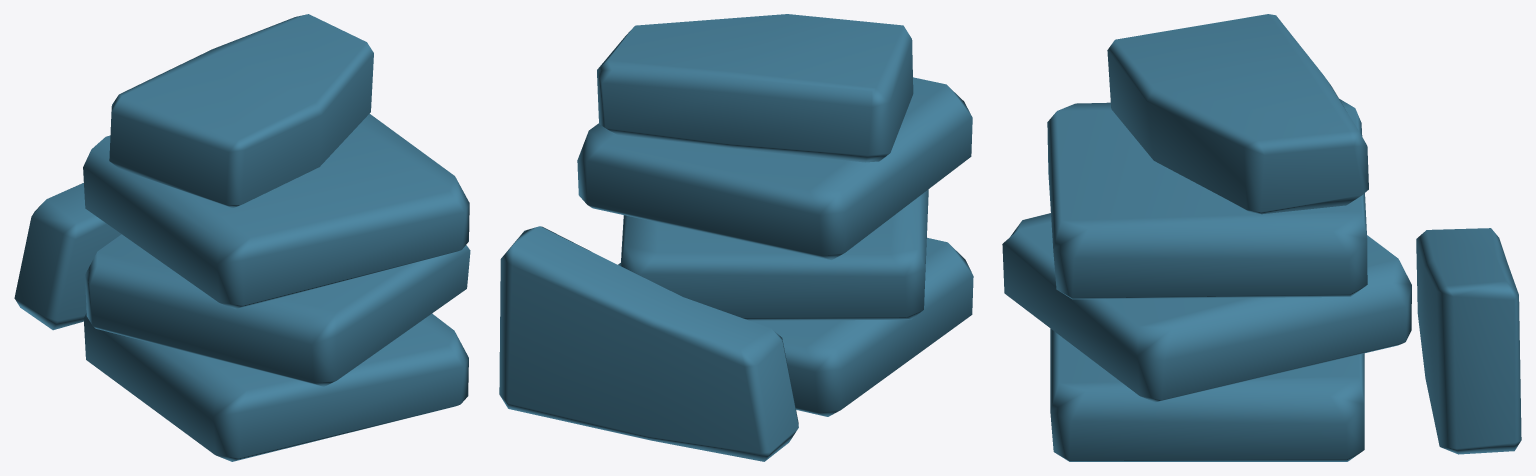
File: Slab_Pile_02_Lod0.fbx
3 renders of one model, left to right at view 1: azimuth 30°, elevation 25°; view 2: azimuth 150°, elevation 25°; view 3: azimuth 270°, elevation 25°, orthographic. The views are drawn at different scales.
Visible parts, largest first — view 1: Slab_Pile_02_Lod0; view 2: Slab_Pile_02_Lod0; view 3: Slab_Pile_02_Lod0.
Boxes of the visible parts, left/top/right/bottom form: Slab_Pile_02_Lod0: left=14, top=14, right=470, bottom=461; Slab_Pile_02_Lod0: left=499, top=14, right=973, bottom=461; Slab_Pile_02_Lod0: left=1002, top=14, right=1521, bottom=461.
Bounding box in the file's own units: 46.84 × 40.7 × 59.2.
